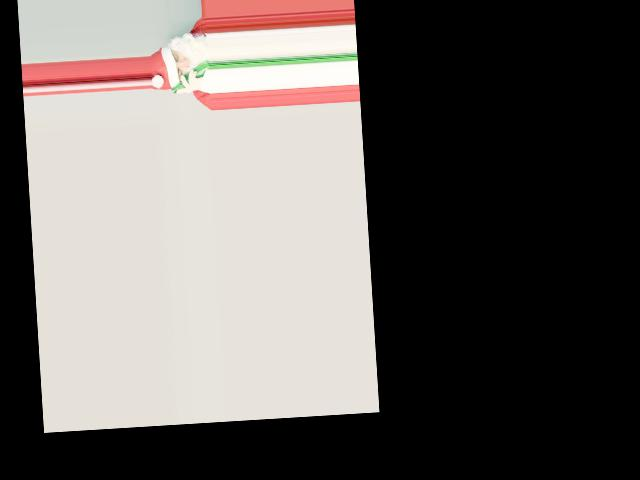beer: (170, 61, 211, 94)
